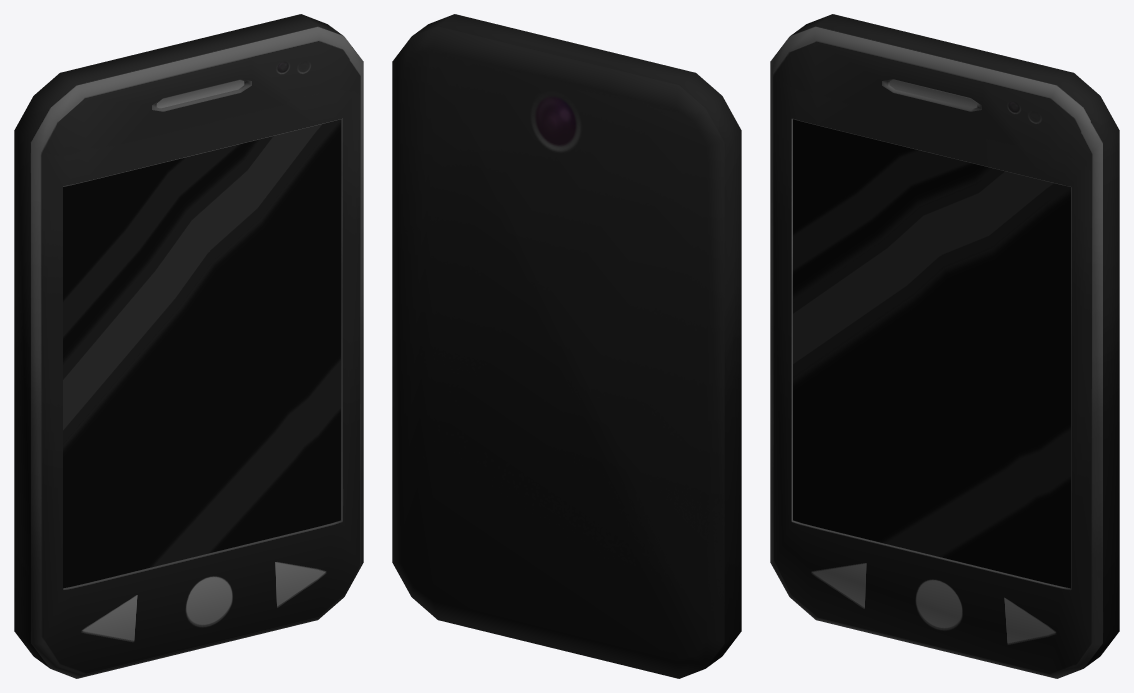
Rendered from Celular.fbx.
The picture shows the model from 3 angles, left to right: view 1: azimuth 30°, elevation 25°; view 2: azimuth 150°, elevation 25°; view 3: azimuth 330°, elevation 25°; orthographic projection.
Parts seen in each view (by area): view 1: Cube; view 2: Cube; view 3: Cube.
Boxes of the visible parts, box(x1,y1,x2,y2) form: Cube: box(14, 14, 363, 678); Cube: box(392, 14, 741, 678); Cube: box(770, 14, 1119, 678).
Bounding box in the file's own units: 301 × 514 × 41.43.
